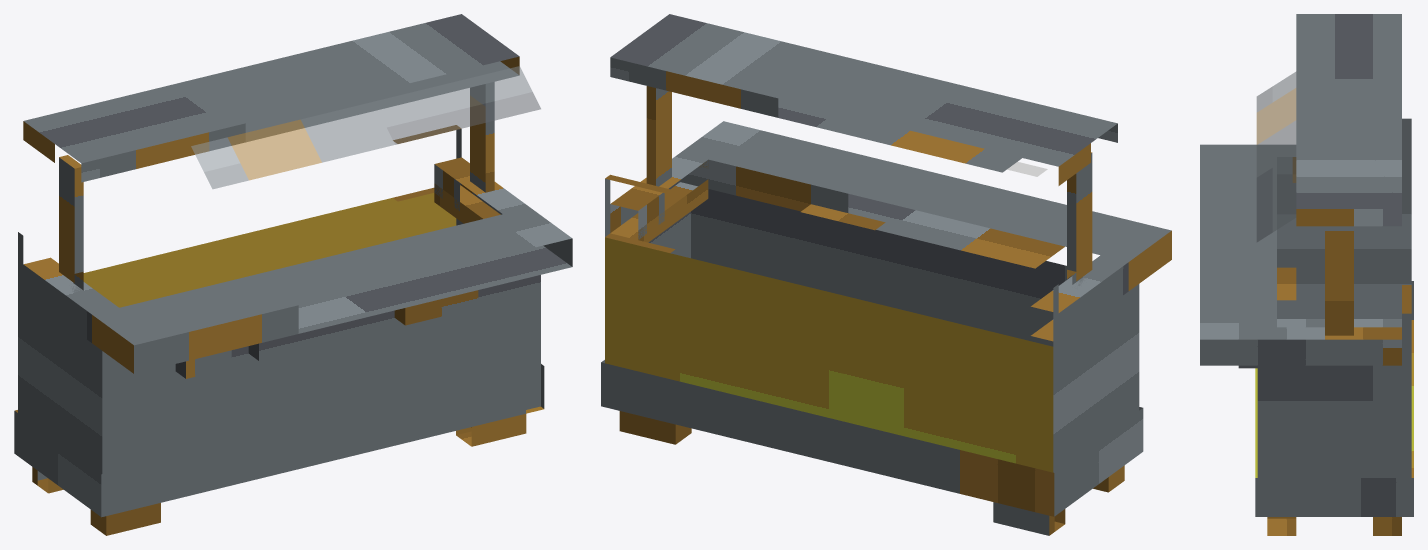
File: food_stand_single.fbx
3 renders of one model, left to right at view 1: azimuth 30°, elevation 25°; view 2: azimuth 150°, elevation 25°; view 3: azimuth 270°, elevation 25°, orthographic. The views are drawn at different scales.
Parts seen in each view (by area): view 1: cube.007, cube.012; view 2: cube.007; view 3: cube.007, cube.012.
Part boxes in pixels (bbox=[...]): cube.007: bbox=[14, 14, 572, 535]; cube.012: bbox=[191, 66, 540, 188]; cube.007: bbox=[601, 14, 1171, 535]; cube.007: bbox=[1200, 14, 1413, 535]; cube.012: bbox=[1256, 72, 1296, 241].
Bounding box in the file's own units: 303 × 238 × 139.
